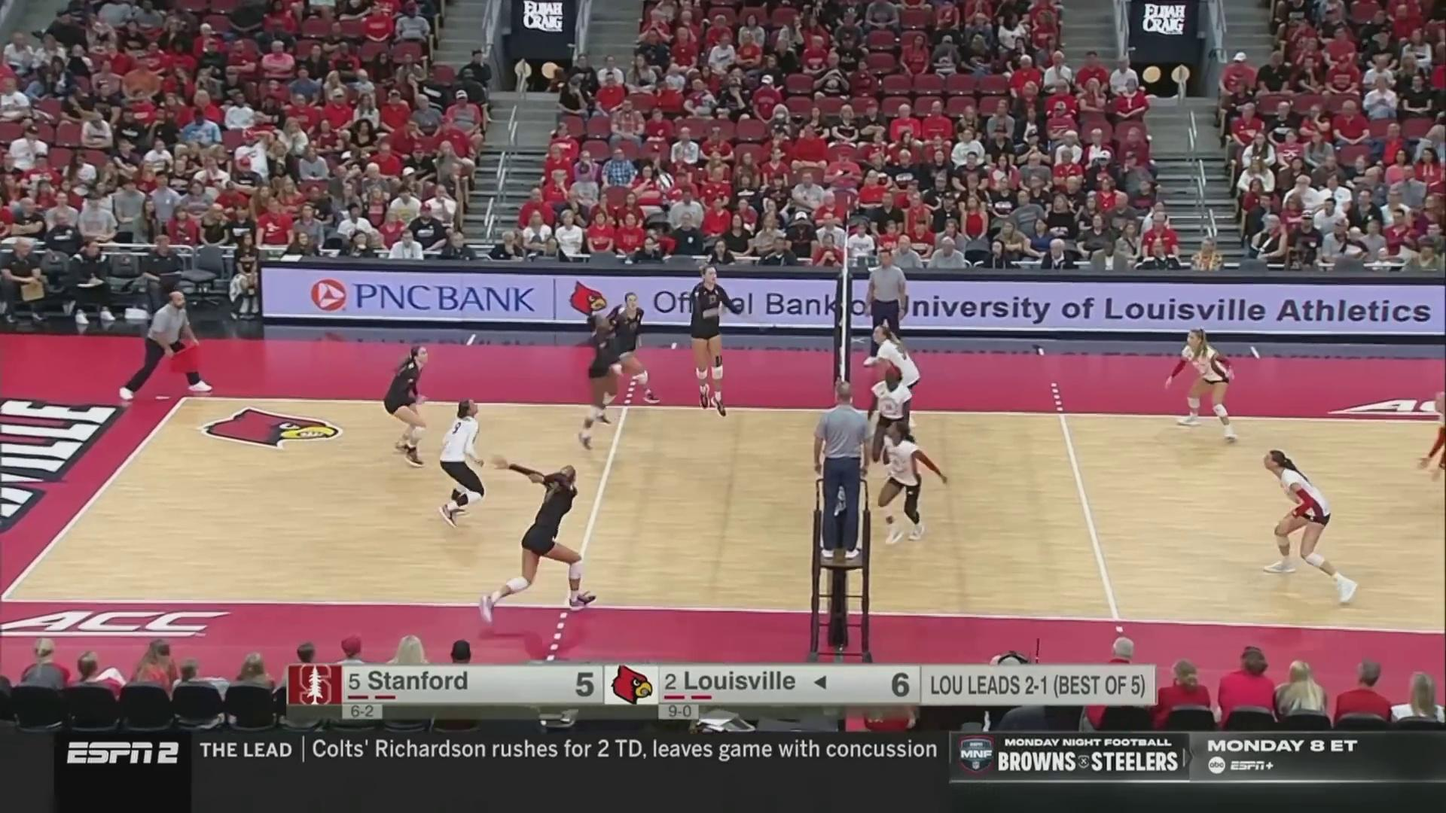player: (473, 457, 595, 622), (1255, 450, 1358, 604), (679, 255, 742, 425), (431, 395, 501, 526), (874, 425, 944, 545), (1166, 330, 1240, 442), (860, 320, 926, 436), (860, 362, 928, 471), (380, 346, 438, 467), (606, 288, 660, 408), (576, 306, 616, 450), (1418, 384, 1446, 497)
refree: (816, 391, 876, 564), (127, 290, 214, 399), (853, 247, 922, 370)
